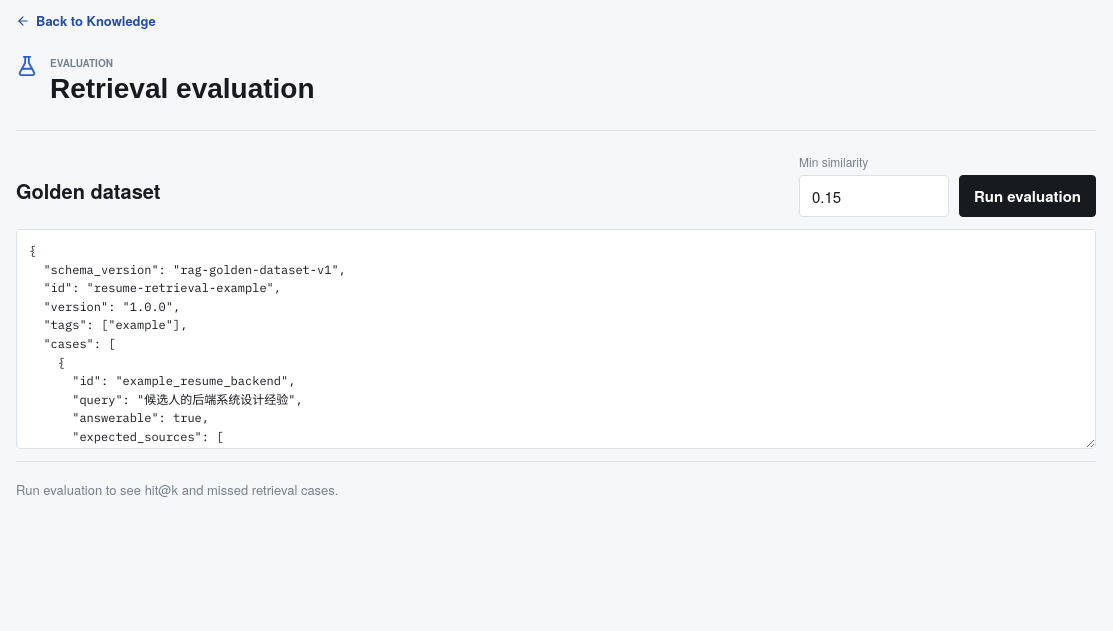
Test case: runs a Golden Dataset against the current index from the dedicated page
Check: the text box labelled "Golden dataset" is shown, box [16, 229, 1096, 449]
Click the button "Run evaluation": (1028, 196) [959, 175, 1096, 217]
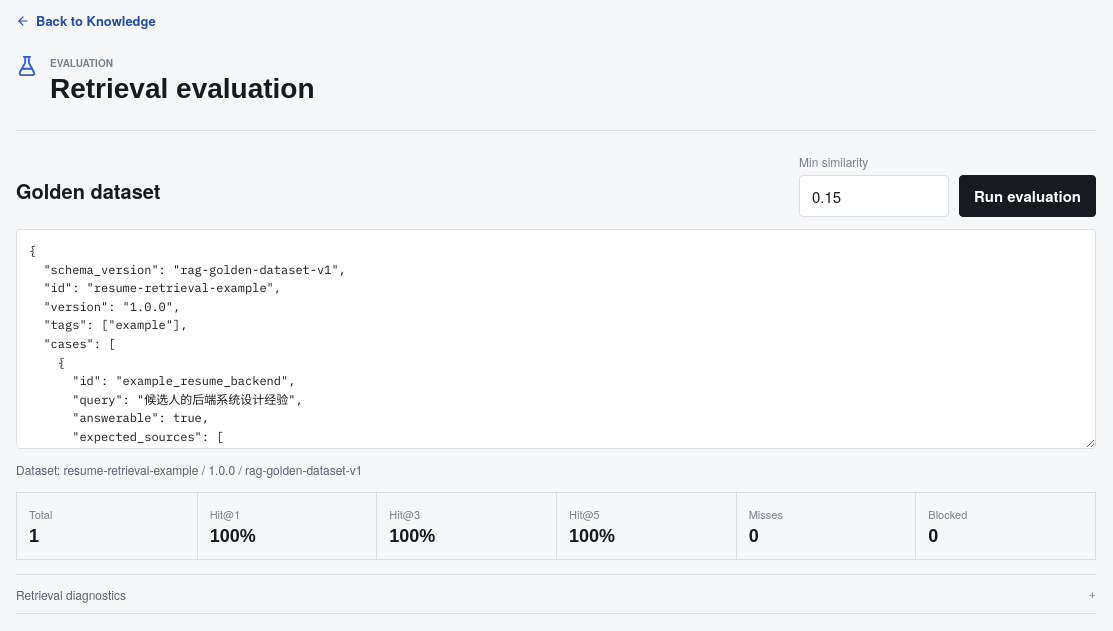
Check: the text "Dataset: resume-retrieval-example / 1.0.0 / rag-golden-dataset-v1" is shown, box [16, 461, 362, 478]
